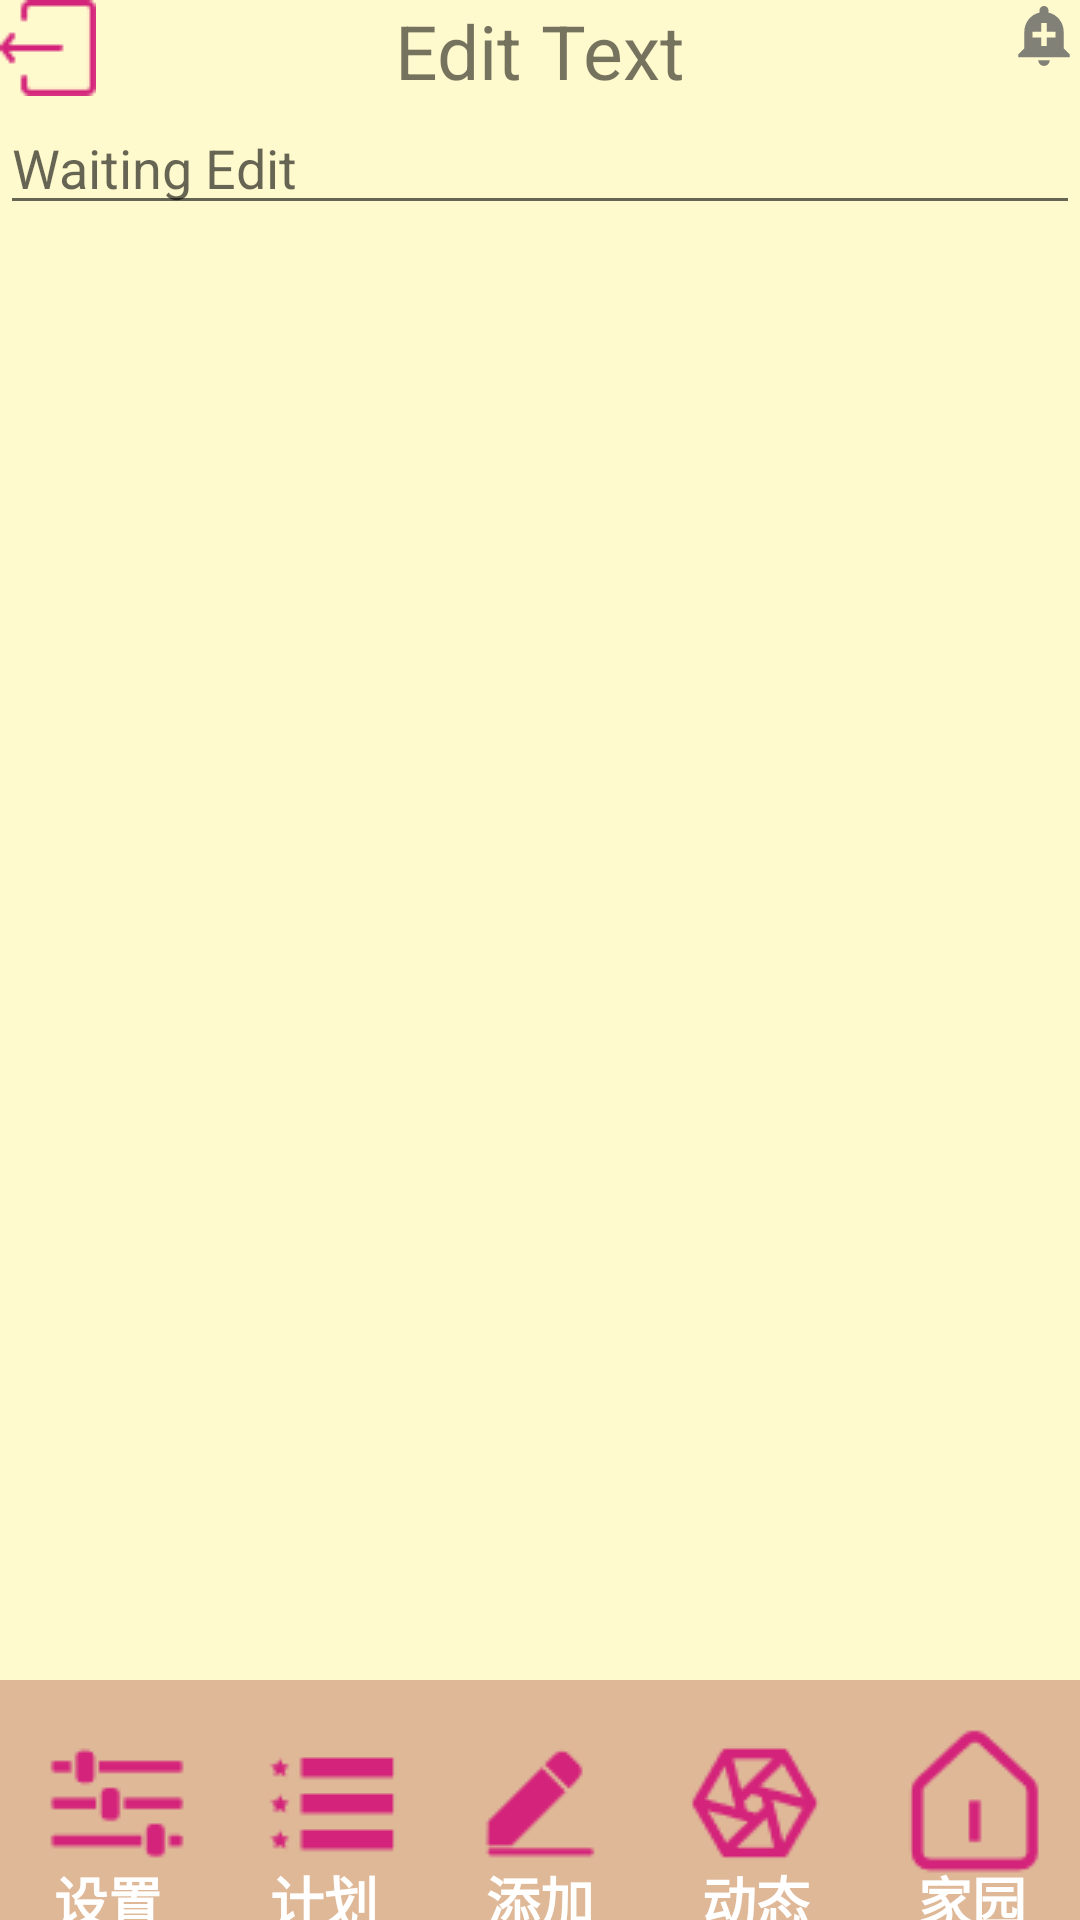

Icon bounding boxes for this 1080x1920 phone screenshot, format (x1, y1, x2, y2):
alarm: (1018, 6, 1070, 66)
exit: (0, 0, 96, 96)
